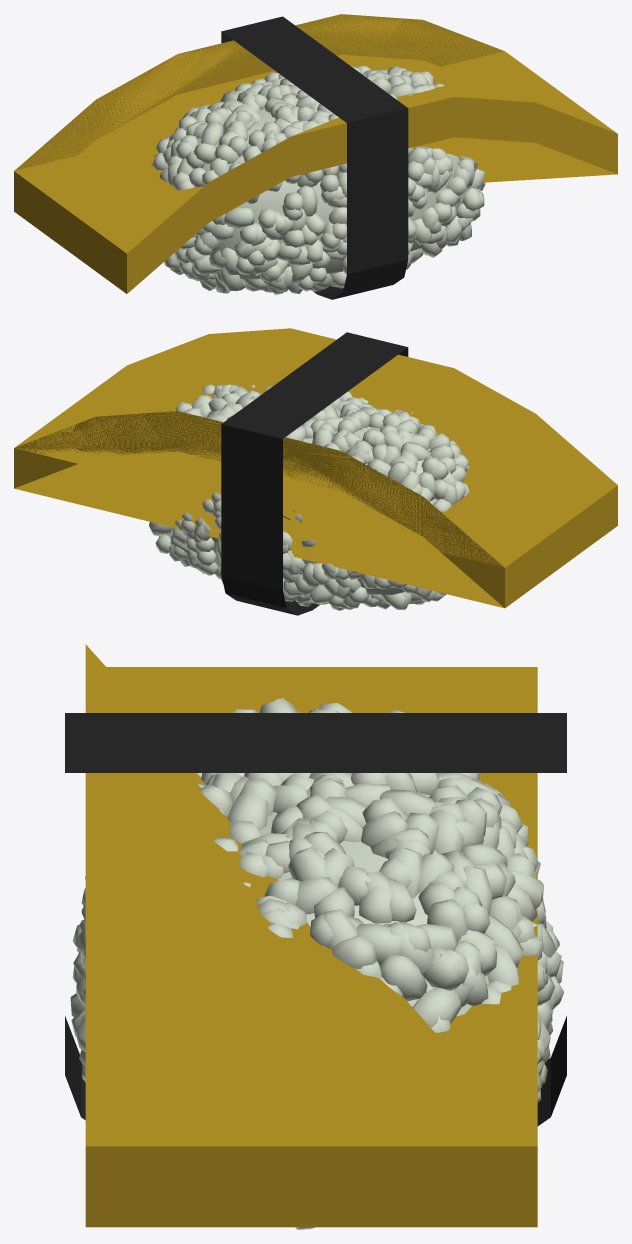
The model's file is tamago.fbx.
The picture shows the model from 3 angles, top to bottom: view 1: azimuth 30°, elevation 25°; view 2: azimuth 150°, elevation 25°; view 3: azimuth 270°, elevation 25°; orthographic projection. The views are drawn at different scales.
Visible parts, largest first — view 1: tamago; view 2: tamago; view 3: tamago.
Part boxes in pixels (x1,y1,x2,y2): tamago: (14,14,617,299); tamago: (14,328,617,615); tamago: (65,644,566,1229).
Size of the model in its own units: 400 by 155 by 177.
